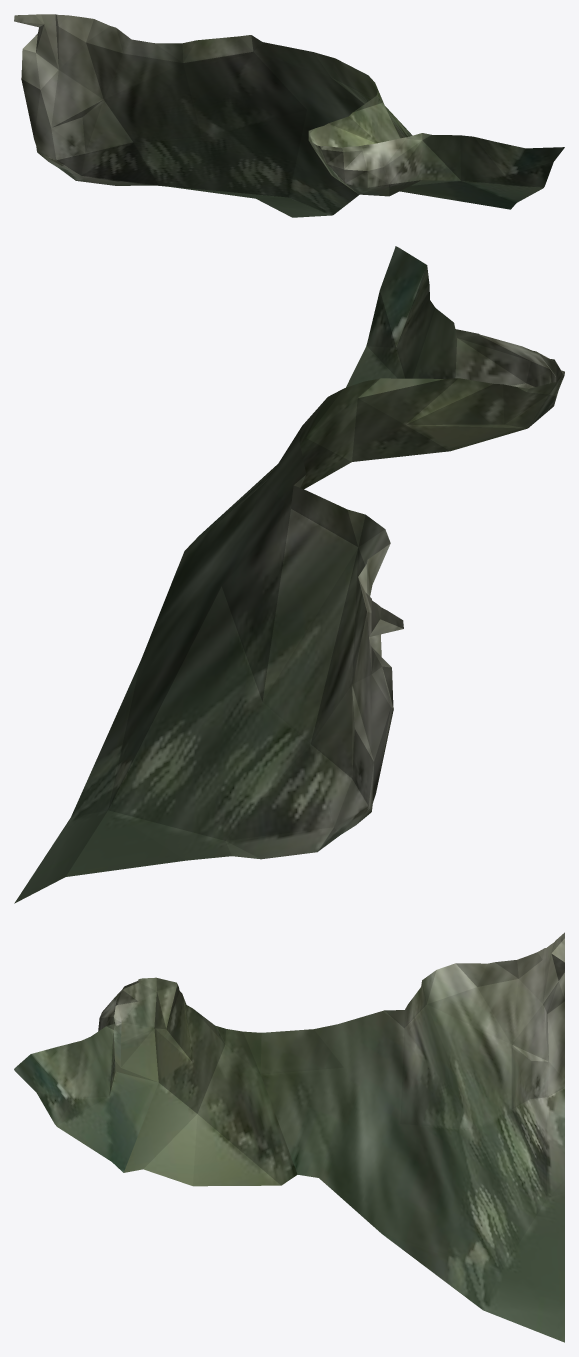
The picture shows the model from 3 angles, top to bottom: view 1: azimuth 30°, elevation 25°; view 2: azimuth 150°, elevation 25°; view 3: azimuth 270°, elevation 25°; orthographic projection. The views are drawn at different scales.
Size of the model in its own units: 1.39 by 1.29 by 2.35.
Materials: 1 (1 with a texture image).
